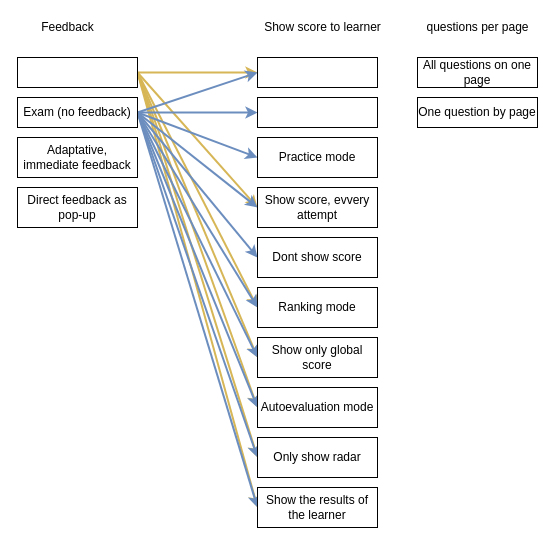
This 555x545 diagram has some shape labels left out. Here are the shapes that lost their labels. From the top down, the box of each, then its label:
(16, 56, 138, 88): At end of test
(256, 56, 378, 88): auto-evaluation mode
(256, 96, 378, 128): Exam mode
